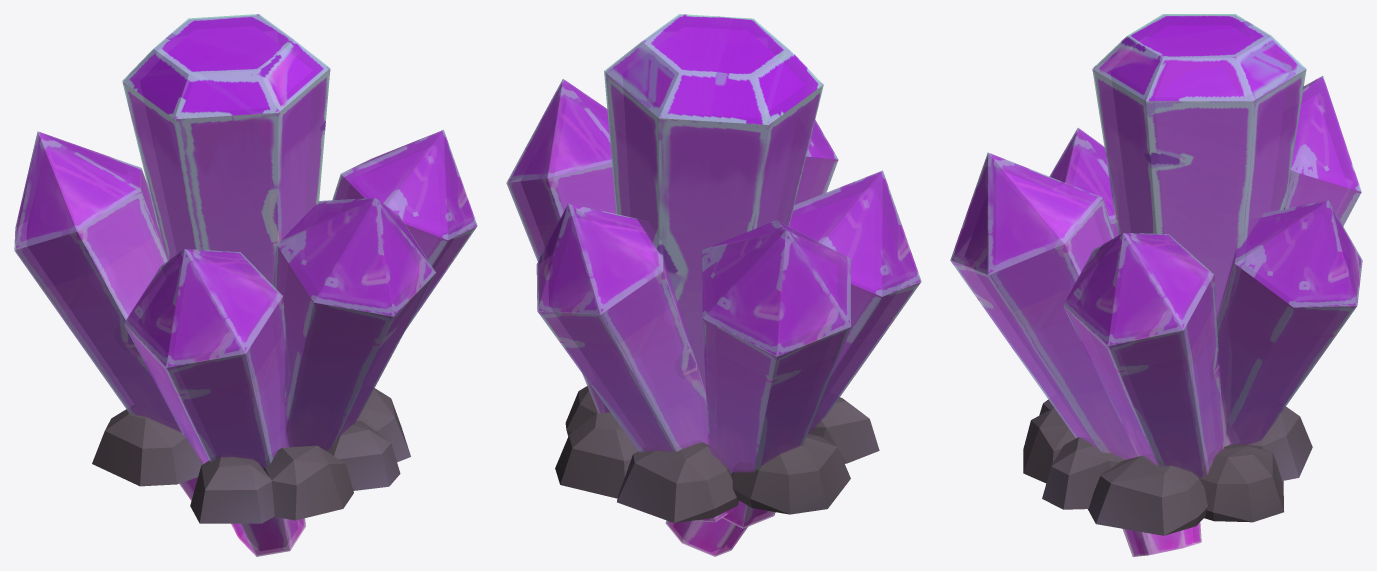
Rendered from Crystal_01.fbx.
3 views of the same model, side by side, from view 1: azimuth 30°, elevation 25°; view 2: azimuth 150°, elevation 25°; view 3: azimuth 270°, elevation 25° (orthographic). The views are drawn at different scales.
Visible parts, largest first — view 1: crystal 3.006; view 2: crystal 3.006; view 3: crystal 3.006.
Boxes of the visible parts, x1,y1,x2,y2 form: crystal 3.006: (14,14,477,556); crystal 3.006: (506,14,921,556); crystal 3.006: (950,14,1362,556).
Size of the model in its own units: 92.35 by 117 by 85.13.
